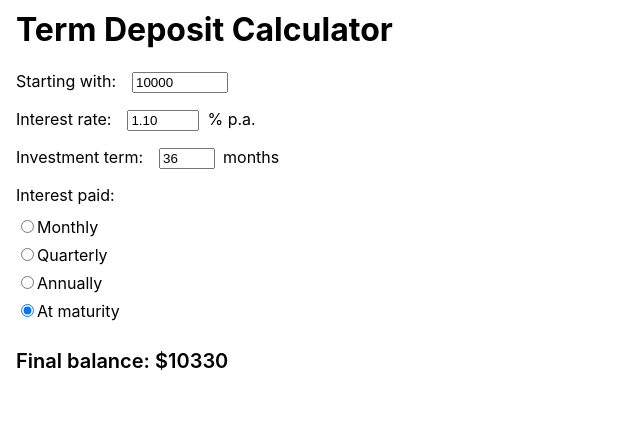
Scenario: displays error message when starting with amount is invalid
Replace the text in the number field labelled "Starting with:" with "0" at (180,82), box [132,72,228,93]
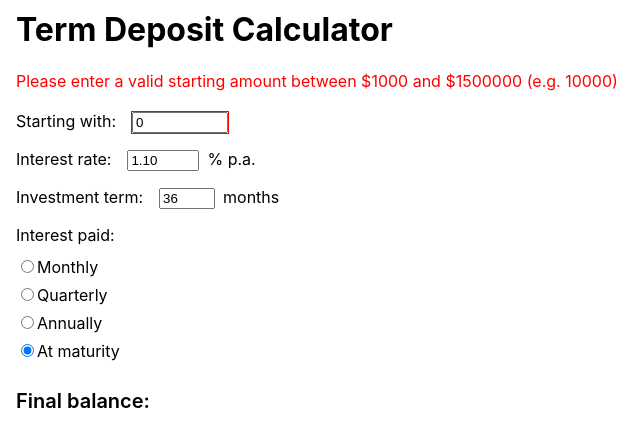
Check: the text "Please enter a valid starting amount between $1000 and $1500000 (e.g. 10000)" is shown, box [16,71,618,91]
